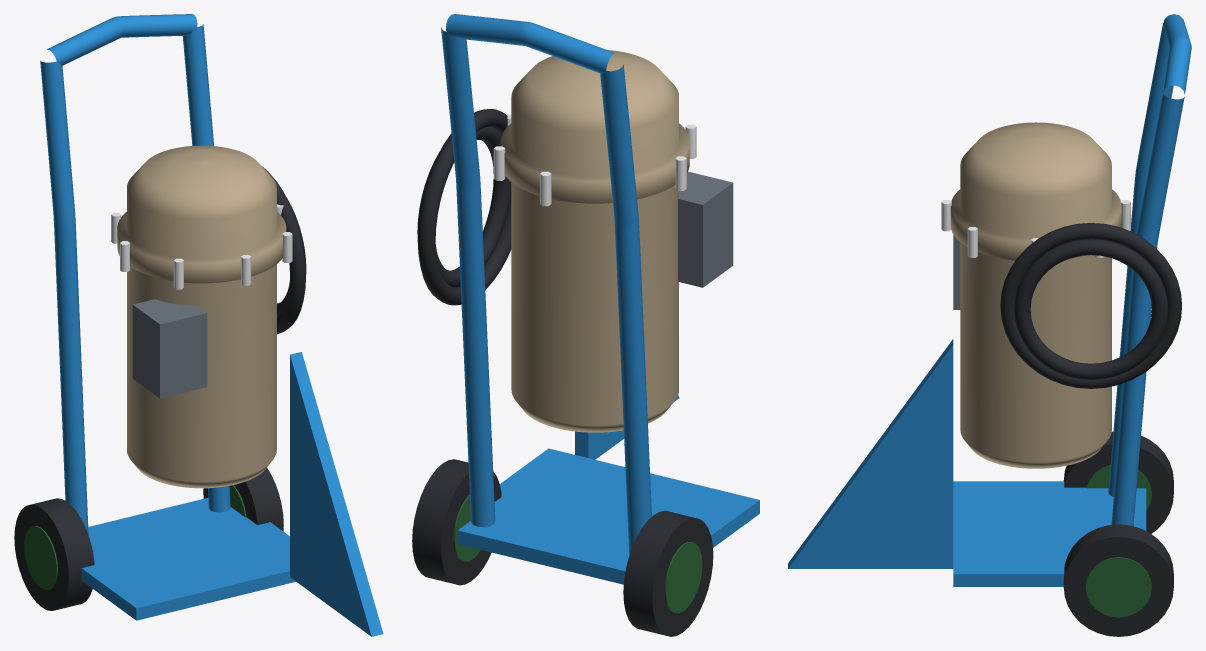
File: osca-cart.glb
3 renders of one model, left to right at view 1: azimuth 30°, elevation 25°; view 2: azimuth 150°, elevation 25°; view 3: azimuth 270°, elevation 25°, orthographic. The views are drawn at different scales.
Visible parts, largest first — view 1: OSCA CS-SS média capacidade; view 2: OSCA CS-SS média capacidade; view 3: OSCA CS-SS média capacidade.
Boxes of the visible parts, box(x1,y1,x2,y2) form: OSCA CS-SS média capacidade: box(14, 14, 383, 636); OSCA CS-SS média capacidade: box(412, 14, 759, 636); OSCA CS-SS média capacidade: box(788, 14, 1191, 636).
Size of the model in its own units: 0.184 by 0.438 by 0.293.
